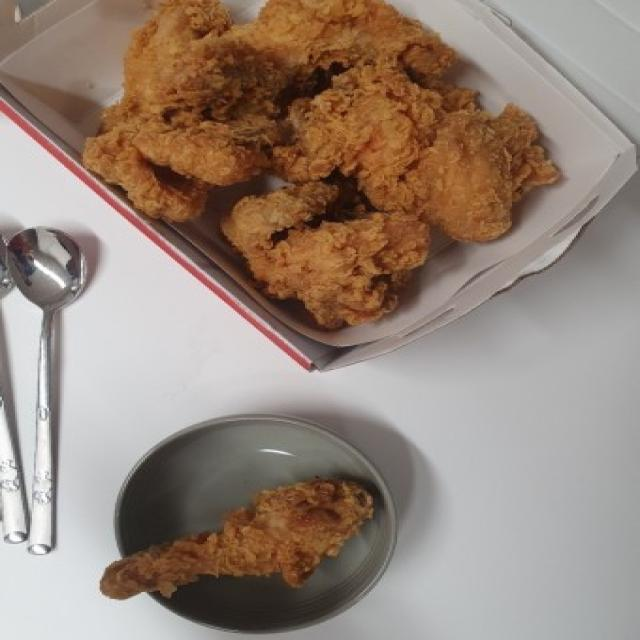Frango: (97, 0, 561, 328), (76, 472, 382, 614)
